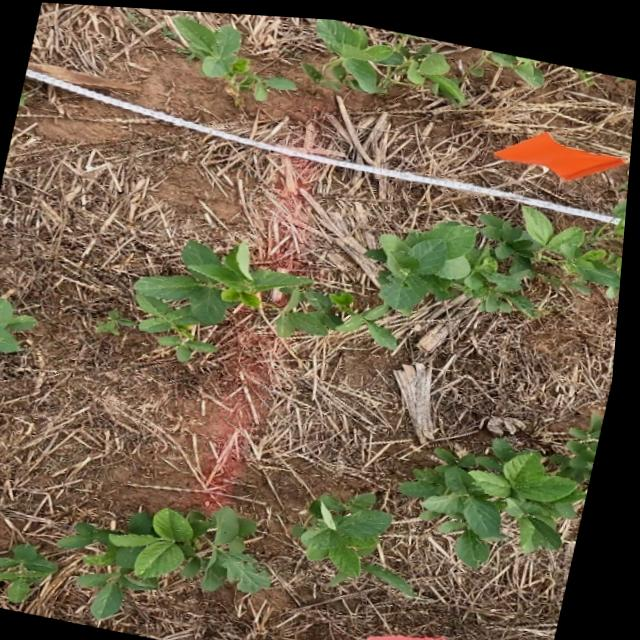soy_plant: (139, 200, 626, 358), (408, 407, 609, 560), (68, 503, 281, 616), (303, 15, 466, 97), (302, 488, 424, 590), (174, 12, 297, 97), (0, 542, 67, 602), (0, 298, 42, 351), (483, 43, 544, 79)
